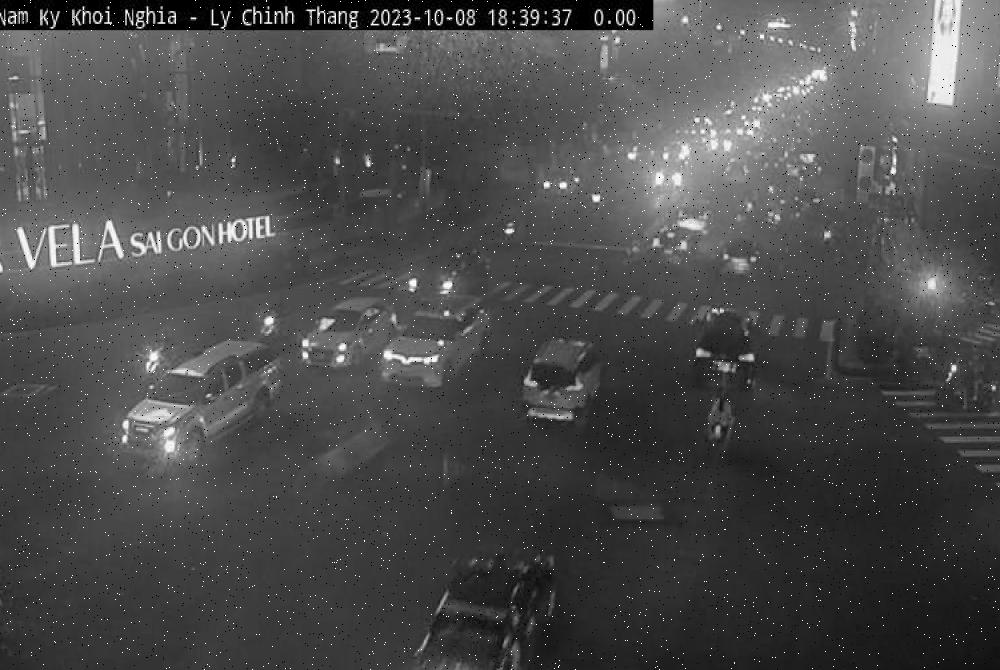car: (395, 540, 552, 670), (116, 332, 267, 466), (379, 297, 479, 395), (298, 281, 381, 377), (515, 329, 592, 428), (683, 296, 757, 393), (411, 246, 487, 318), (710, 224, 758, 290), (446, 242, 448, 242)
motorbike: (679, 396, 753, 445)
